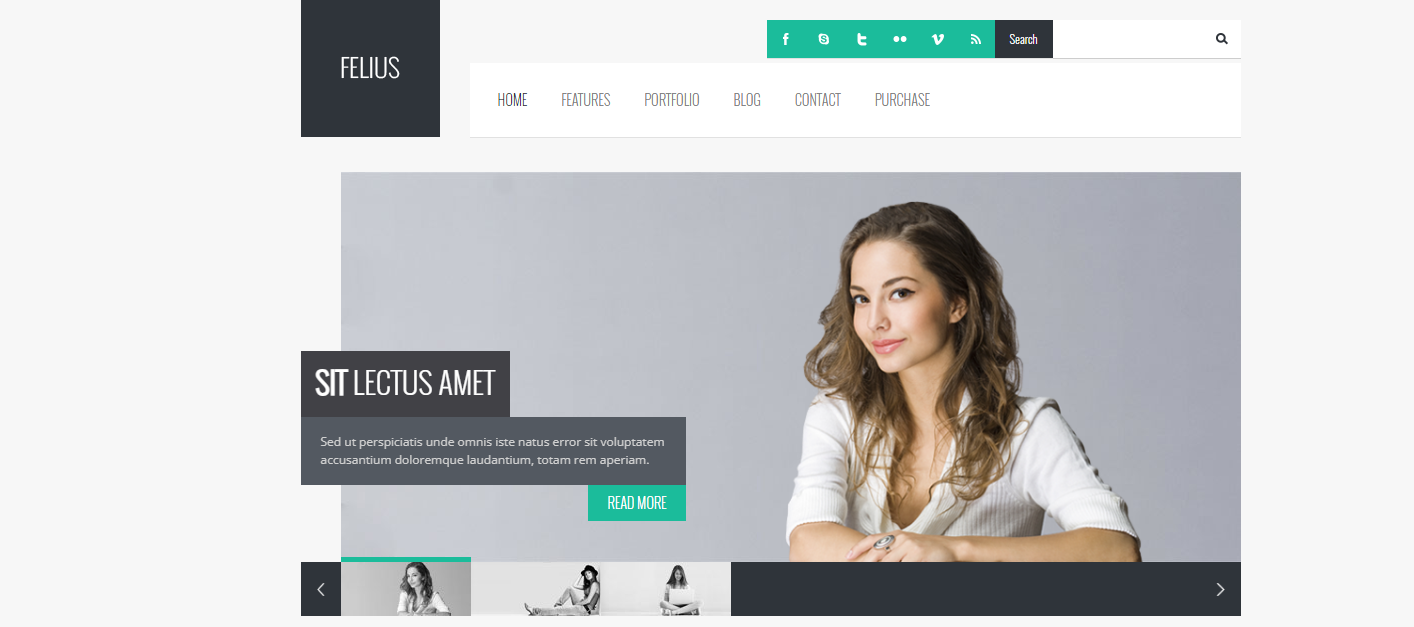menu: (6, 5, 1394, 157)
